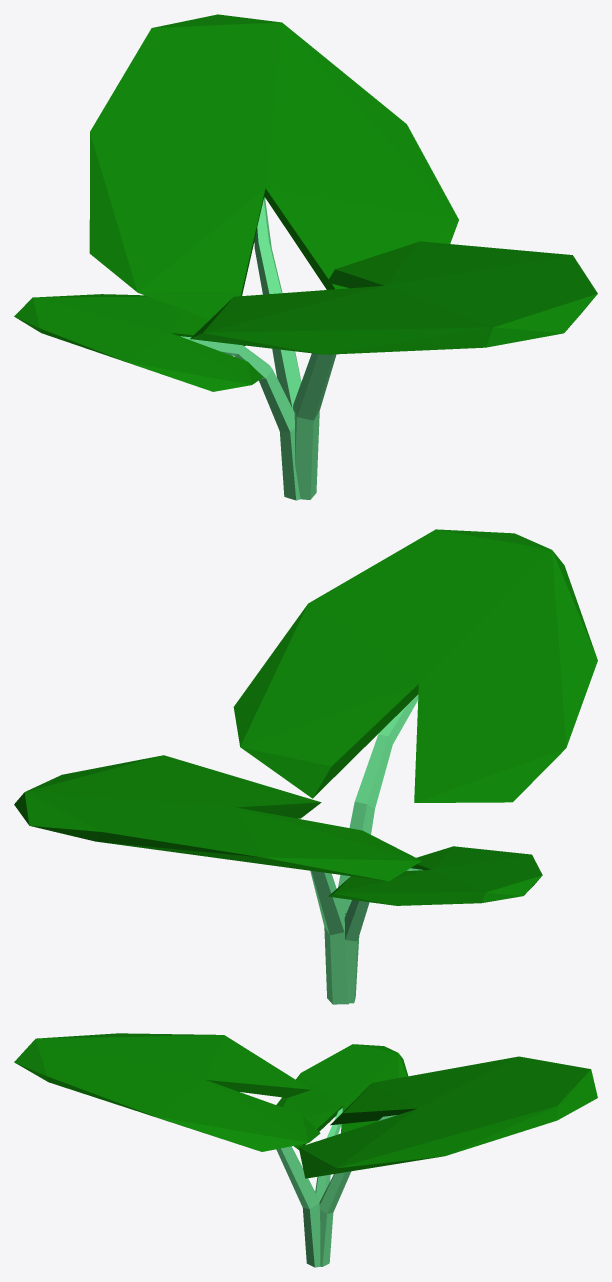
The model's file is elephantEar.fbx.
3 views of the same model, one above another, from view 1: azimuth 30°, elevation 25°; view 2: azimuth 150°, elevation 25°; view 3: azimuth 270°, elevation 25° (orthographic). The views are drawn at different scales.
Parts seen in each view (by area): view 1: Icosphere; view 2: Icosphere; view 3: Icosphere.
Part boxes in pixels (bbox=[...]): Icosphere: bbox=[14, 14, 597, 500]; Icosphere: bbox=[14, 529, 597, 1004]; Icosphere: bbox=[14, 1033, 597, 1267].
Size of the model in its own units: 94.47 by 66.28 by 159.
